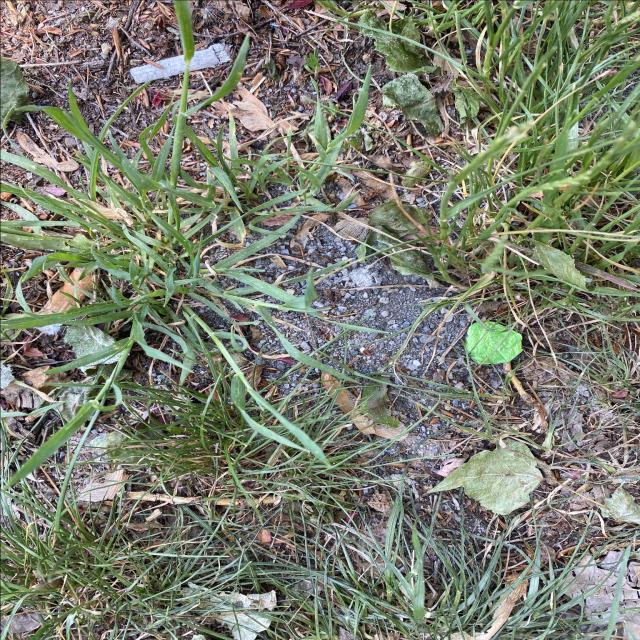other waste: (34, 264, 98, 336), (128, 42, 233, 85)
